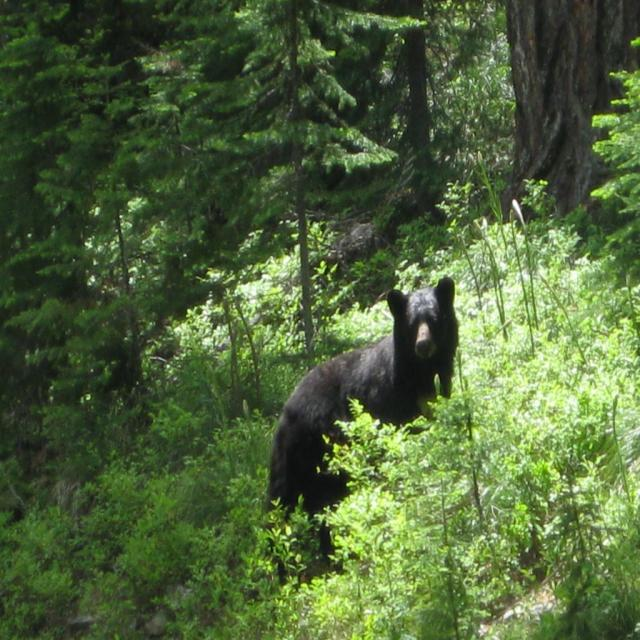Bear: (266, 277, 458, 583)
